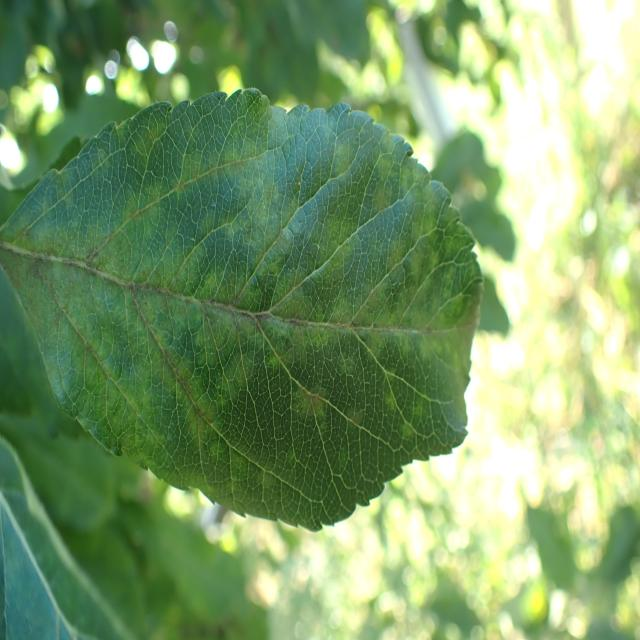scab: (4, 177, 462, 455)
